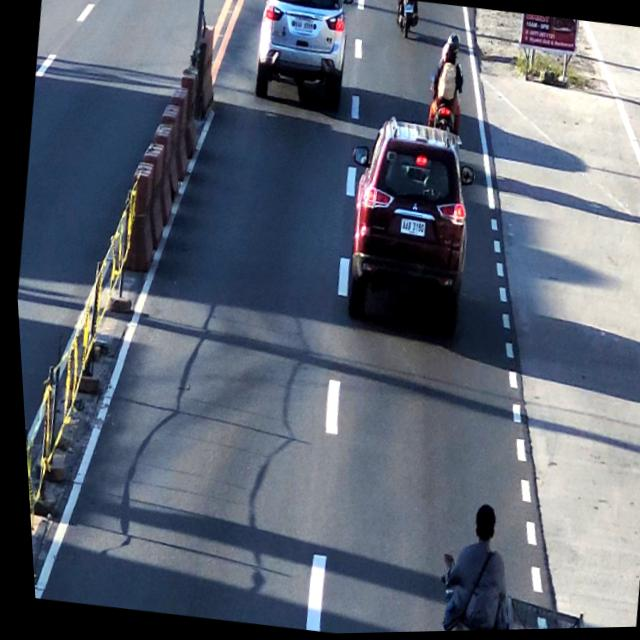Car: (335, 114, 482, 333), (246, 0, 357, 115)
License-Plate: (393, 220, 425, 242), (289, 12, 315, 37)
Motorcycle: (420, 34, 471, 128)
Tricycle: (417, 493, 602, 633)
